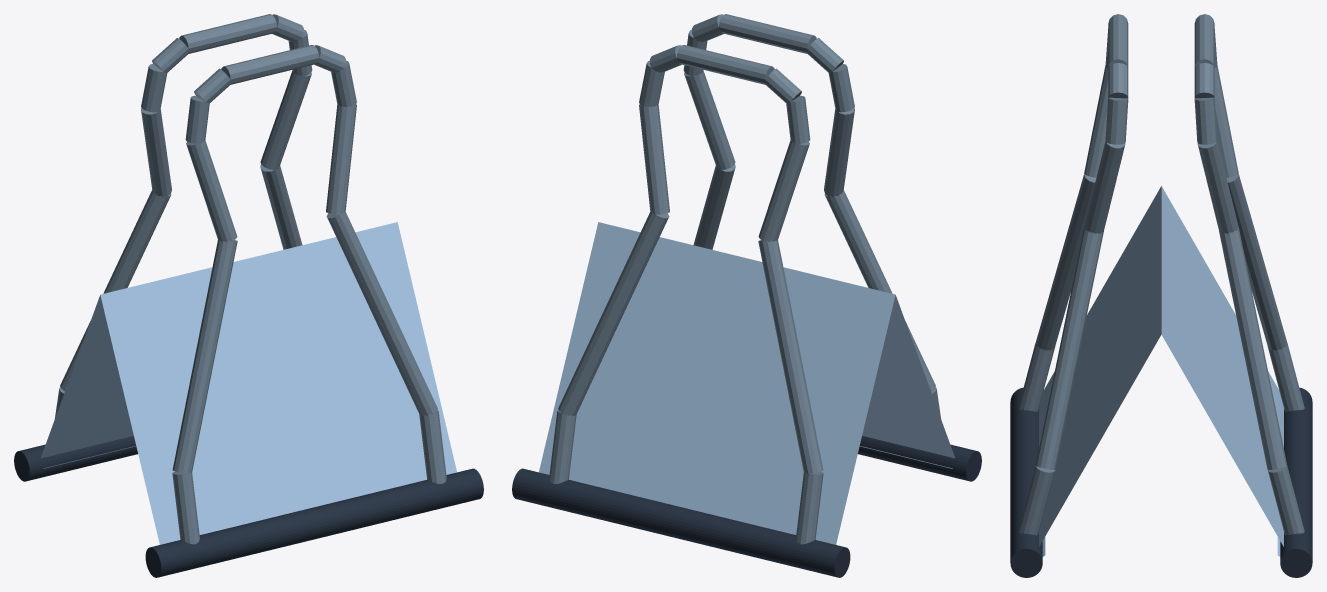
The model's file is binder.glb.
The picture shows the model from 3 angles, left to right: view 1: azimuth 30°, elevation 25°; view 2: azimuth 150°, elevation 25°; view 3: azimuth 270°, elevation 25°; orthographic projection. The views are drawn at different scales.
Parts seen in each view (by area): view 1: fold 0, front lip, fold 1, wire 11, wire 19, rear lip, wire -11, wire 18, wire 12, wire -18, wire -15, wire 15 (+9 smaller); view 2: fold 1, rear lip, fold 0, wire -11, wire -19, front lip, wire 11, wire -18, wire -12, wire 18, wire 15, wire -15 (+9 smaller); view 3: fold 0, fold 1, wire -19, wire 19, rear lip, front lip, wire -11, wire 11, wire -18, wire 18, wire -110, wire 110 (+10 smaller).
Boxes of the visible parts, left/top/right/bottom form: fold 0: left=100, top=222, right=456, bottom=544; front lip: left=145, top=468, right=483, bottom=577; fold 1: left=41, top=295, right=133, bottom=458; wire 11: left=172, top=240, right=237, bottom=473; wire 19: left=326, top=211, right=437, bottom=416; rear lip: left=14, top=436, right=137, bottom=481; wire -11: left=60, top=190, right=171, bottom=391; wire 18: left=326, top=104, right=356, bottom=214; wire 12: left=186, top=140, right=237, bottom=241; wire -18: left=260, top=70, right=311, bottom=169; wire -15: left=179, top=14, right=276, bottom=53; wire 15: left=221, top=45, right=319, bottom=84; fold 1: left=539, top=222, right=895, bottom=544; rear lip: left=512, top=468, right=850, bottom=577; fold 0: left=862, top=295, right=954, bottom=458; wire -11: left=758, top=240, right=823, bottom=473; wire -19: left=558, top=211, right=669, bottom=416; front lip: left=858, top=436, right=981, bottom=481; wire 11: left=824, top=190, right=935, bottom=391; wire -18: left=639, top=104, right=669, bottom=214; wire -12: left=758, top=140, right=809, bottom=241; wire 18: left=684, top=70, right=735, bottom=169; wire 15: left=719, top=14, right=816, bottom=53; wire -15: left=676, top=45, right=774, bottom=84; fold 0: left=1039, top=186, right=1161, bottom=546; fold 1: left=1161, top=186, right=1283, bottom=546; wire -19: left=1219, top=228, right=1287, bottom=469; wire 19: left=1035, top=228, right=1103, bottom=469; rear lip: left=1280, top=387, right=1312, bottom=577; front lip: left=1010, top=387, right=1042, bottom=577; wire -11: left=1226, top=174, right=1287, bottom=350; wire 11: left=1035, top=174, right=1096, bottom=350; wire -18: left=1197, top=141, right=1238, bottom=233; wire 18: left=1084, top=141, right=1125, bottom=233; wire -110: left=1267, top=466, right=1304, bottom=535; wire 110: left=1018, top=466, right=1055, bottom=535.
Size of the model in its own units: 1.02 by 1.36 by 0.806.
